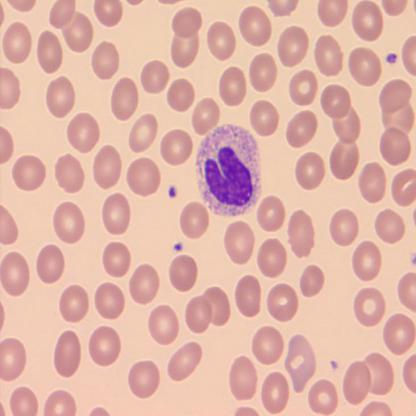Band Neutrophil: (193, 121, 264, 219)
